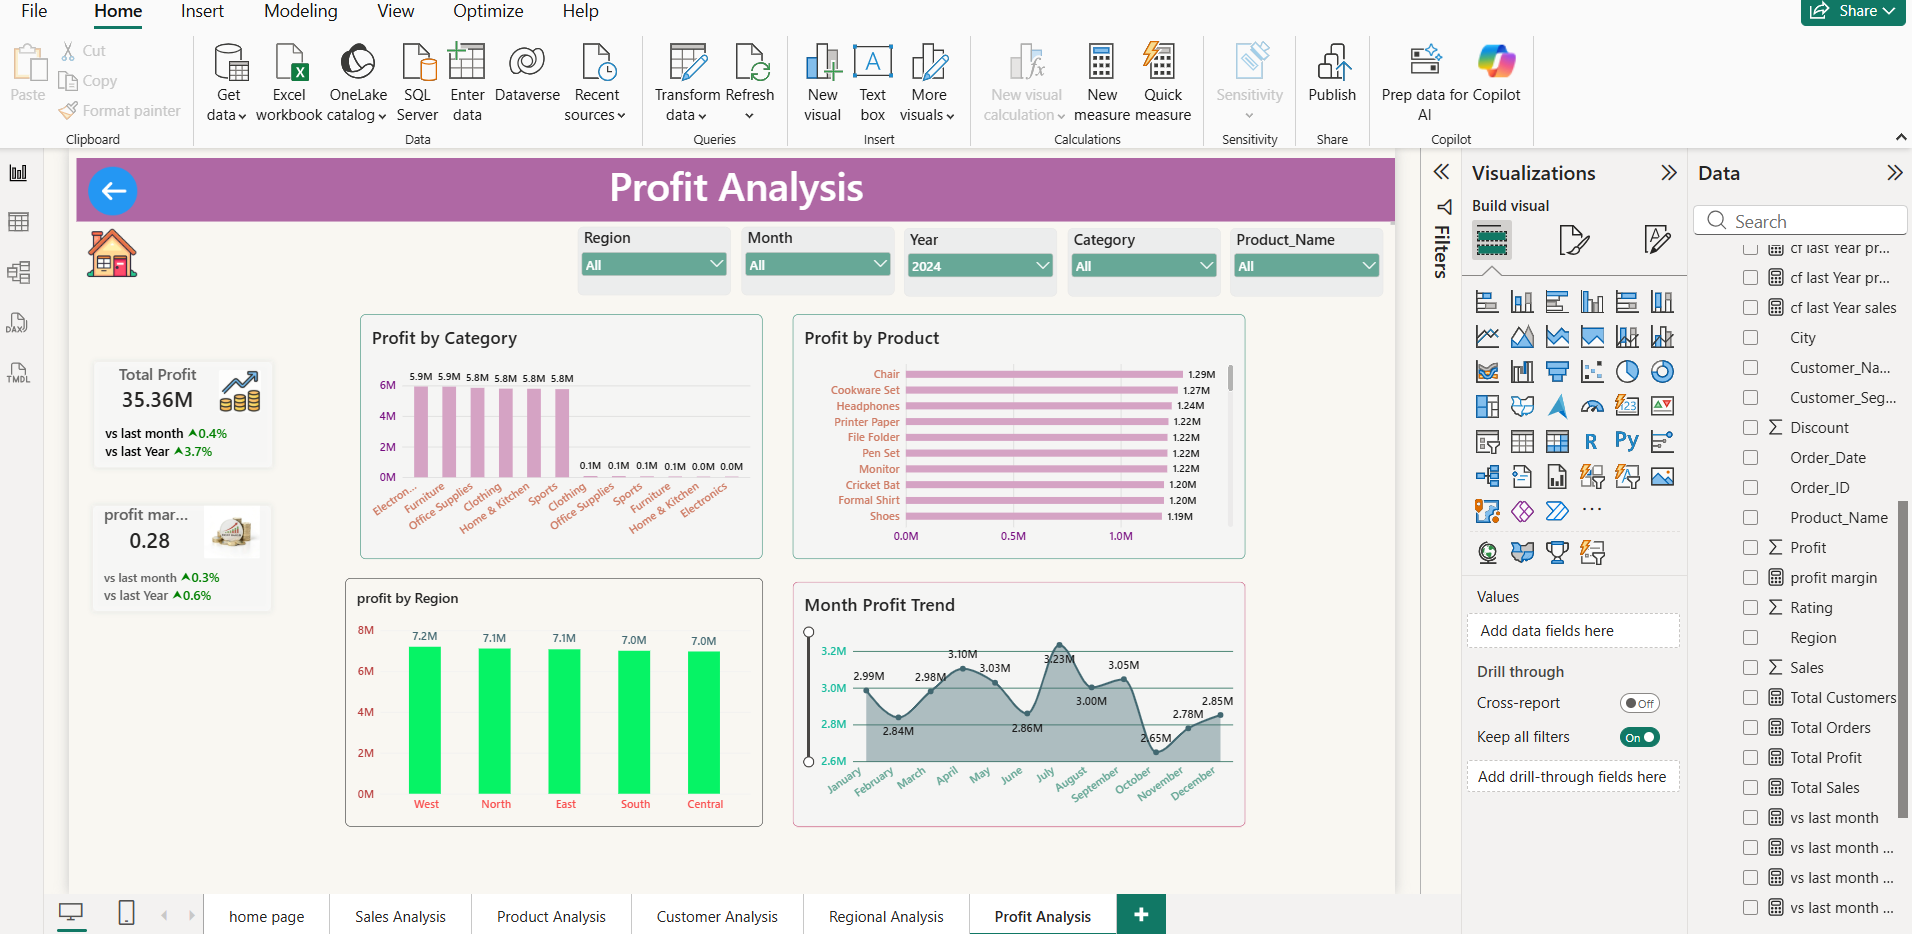

The dashboard page shown, as its layout file describes it:
{"tool":"powerbi","page":{"name":"Profit Analysis","canvas":[1920,1080],"ordinal":5},"visuals":[{"type":"textbox","title":"Profit Analysis","box":[10.3,14.4,1910.1,96.7],"z":0},{"type":"cardVisual","fields":{"Data":["Table1.Total Profit"]},"box":[24.7,298.5,280.5,175],"z":1000},{"type":"clusteredColumnChart","title":"Profit by Category","fields":{"Category":["Table1.Category"],"Y":["Table1.Total Profit"]},"box":[421.7,240.7,582,354.7],"z":2000},{"type":"barChart","title":"Profit by Category","fields":{"Category":["Table1.Product_Name"],"Y":["Table1.Total Profit"]},"box":[1047.8,240.7,655.1,354.7],"z":3000},{"type":"clusteredColumnChart","title":"   profit by Region","fields":{"Category":["Table1.Region"],"Y":["Table1.Total Profit"]},"box":[399.9,622.5,604.4,360.1],"z":4000},{"type":"lineChart","title":"Month Profit Trend","fields":{"Category":["date table.Month"],"Y":["Table1.Total Profit"]},"box":[1047.8,628,655.1,354.7],"z":5000},{"type":"cardVisual","fields":{"Data":["Table1.profit margin"]},"box":[23.5,506.7,280.5,175.5],"z":6000},{"type":"image","box":[10.9,27.1,105,70.6],"z":7000},{"type":"slicer","fields":{"Values":["date table.Month"]},"box":[972.7,114,221.9,99],"z":8000},{"type":"slicer","fields":{"Values":["date table.Year"]},"box":[1208.9,115.8,221.9,99],"z":9000},{"type":"slicer","fields":{"Values":["Table1.Region"]},"box":[736.5,114,221.9,99],"z":10000},{"type":"slicer","fields":{"Values":["Table1.Category"]},"box":[1445,115.8,221.9,99],"z":11000},{"type":"slicer","fields":{"Values":["Table1.Product_Name"]},"box":[1681.2,115.8,221.9,99],"z":12000},{"type":"image","box":[23.5,115.8,77.8,72.4],"z":13000}]}

Visuals, with their boxes on the page's 1920x1080 design canvas (x1, y1, x2, y2). These are canvas units, not pixel positions in the 1912x934 screenshot, which may show the page scaled, cropped or inside an application window:
"Profit Analysis" textbox: (10, 14, 1920, 111)
cardVisual - Table1.Total Profit: (25, 298, 305, 474)
"Profit by Category" clusteredColumnChart: (422, 241, 1004, 595)
"Profit by Category" barChart: (1048, 241, 1703, 595)
"   profit by Region" clusteredColumnChart: (400, 622, 1004, 983)
"Month Profit Trend" lineChart: (1048, 628, 1703, 983)
cardVisual - Table1.profit margin: (24, 507, 304, 682)
image: (11, 27, 116, 98)
slicer - date table.Month: (973, 114, 1195, 213)
slicer - date table.Year: (1209, 116, 1431, 215)
slicer - Table1.Region: (736, 114, 958, 213)
slicer - Table1.Category: (1445, 116, 1667, 215)
slicer - Table1.Product_Name: (1681, 116, 1903, 215)
image: (24, 116, 101, 188)
